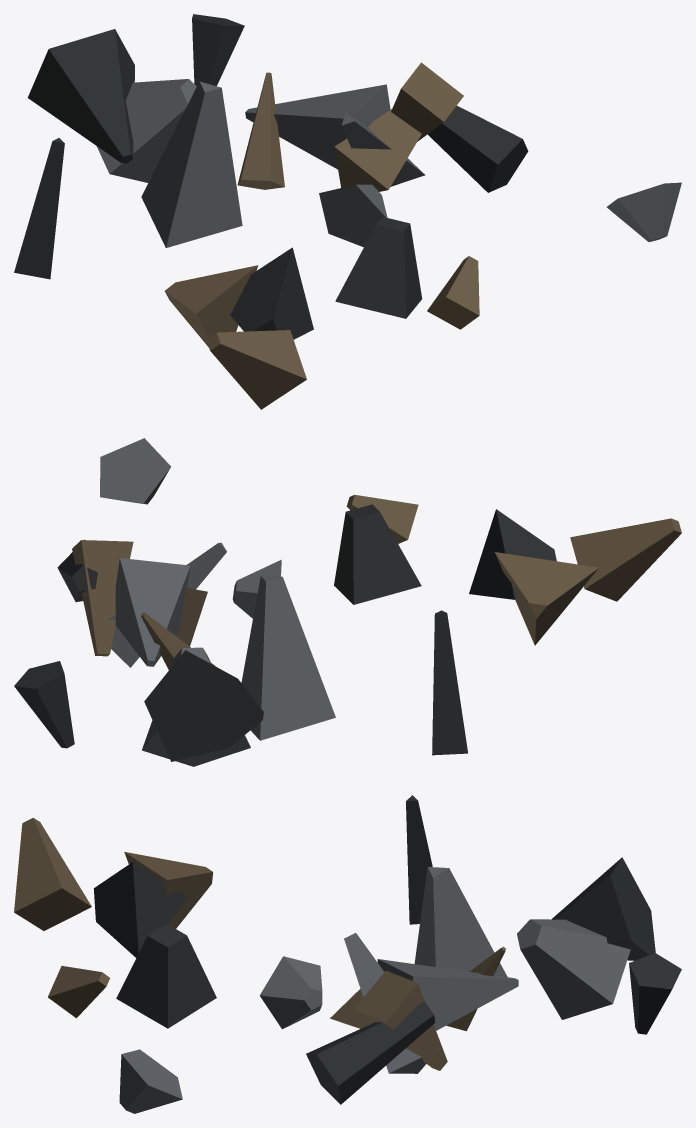
Rendered from debris-01.glb.
3 renders of one model, top to bottom at view 1: azimuth 30°, elevation 25°; view 2: azimuth 150°, elevation 25°; view 3: azimuth 270°, elevation 25°, orthographic. The views are drawn at different scales.
Visible parts, largest first — view 1: Debris 02, Debris 07, Debris 13, Debris 14, Debris 00, Debris 11, Debris 04, Debris 10, Debris 12, Debris 03, Debris 01, Debris 15 (+6 smaller); view 2: Debris 02, Debris 07, Debris 13, Debris 14, Debris 00, Debris 03, Debris 06, Debris 01, Debris 10, Debris 17, Debris 16, Debris 08 (+6 smaller); view 3: Debris 11, Debris 13, Debris 02, Debris 04, Debris 07, Debris 00, Debris 10, Debris 14, Debris 06, Debris 05, Debris 17, Debris 16 (+6 smaller).
Part boxes in pixels (x1=…): Debris 02: x1=141, y1=81, x2=242, y2=247; Debris 07: x1=27, y1=29, x2=134, y2=163; Debris 13: x1=335, y1=216, x2=422, y2=318; Debris 14: x1=245, y1=84, x2=390, y2=169; Debris 00: x1=206, y1=330, x2=306, y2=409; Debris 11: x1=96, y1=79, x2=196, y2=182; Debris 04: x1=428, y1=106, x2=528, y2=192; Debris 10: x1=230, y1=247, x2=313, y2=339; Debris 12: x1=334, y1=109, x2=421, y2=191; Debris 03: x1=164, y1=265, x2=258, y2=347; Debris 01: x1=14, y1=138, x2=64, y2=279; Debris 15: x1=237, y1=72, x2=284, y2=189; Debris 02: x1=241, y1=576, x2=335, y2=740; Debris 07: x1=144, y1=650, x2=263, y2=761; Debris 13: x1=334, y1=504, x2=421, y2=604; Debris 14: x1=115, y1=558, x2=190, y2=666; Debris 00: x1=570, y1=518, x2=681, y2=601; Debris 03: x1=495, y1=552, x2=598, y2=645; Debris 06: x1=72, y1=540, x2=133, y2=656; Debris 01: x1=432, y1=610, x2=467, y2=755; Debris 10: x1=469, y1=509, x2=556, y2=599; Debris 17: x1=100, y1=438, x2=170, y2=504; Debris 16: x1=14, y1=661, x2=74, y2=748; Debris 08: x1=92, y1=542, x2=226, y2=667; Debris 11: x1=517, y1=919, x2=630, y2=1019; Debris 13: x1=116, y1=924, x2=216, y2=1028; Debris 02: x1=414, y1=867, x2=507, y2=977; Debris 04: x1=306, y1=1001, x2=435, y2=1104; Debris 07: x1=551, y1=857, x2=655, y2=960; Debris 00: x1=14, y1=817, x2=91, y2=930; Debris 10: x1=93, y1=862, x2=188, y2=957; Debris 14: x1=377, y1=959, x2=518, y2=1030; Debris 06: x1=353, y1=971, x2=447, y2=1070; Debris 05: x1=259, y1=956, x2=322, y2=1029; Debris 17: x1=119, y1=1049, x2=182, y2=1113; Debris 16: x1=629, y1=953, x2=681, y2=1034.
Bounding box in the file's own units: 3.69 × 0.9923 × 4.15.
